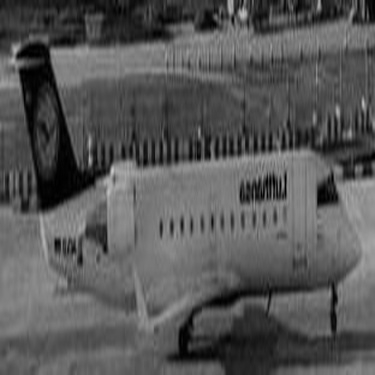airplane: (7, 27, 365, 351)
